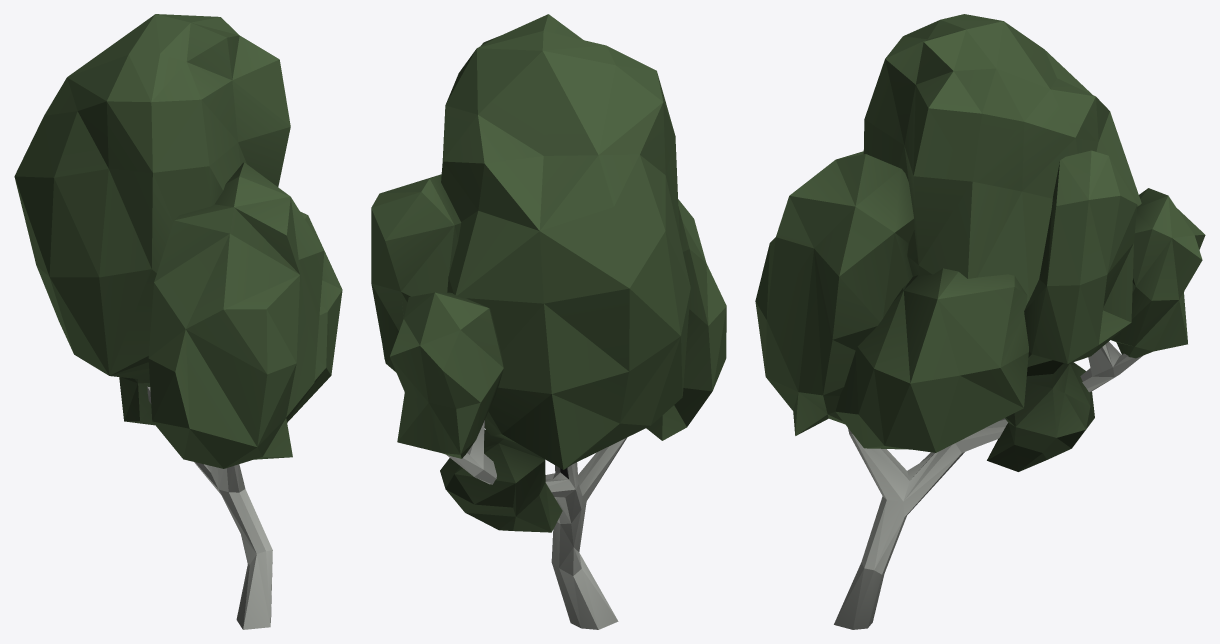
The model's file is tree-birch-1.glb.
The picture shows the model from 3 angles, left to right: view 1: azimuth 30°, elevation 25°; view 2: azimuth 150°, elevation 25°; view 3: azimuth 270°, elevation 25°; orthographic projection. The views are drawn at different scales.
Visible parts, largest first — view 1: tree-birch-1; view 2: tree-birch-1; view 3: tree-birch-1.
Boxes of the visible parts, <box> form: tree-birch-1: <box>14,14,342,629</box>; tree-birch-1: <box>371,14,726,629</box>; tree-birch-1: <box>755,14,1205,629</box>.
Bounding box in the file's own units: 3.1 × 6.5 × 4.52.
